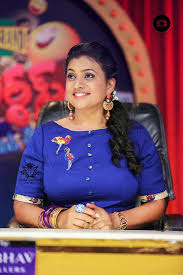indian_female: (55, 53, 121, 119)
